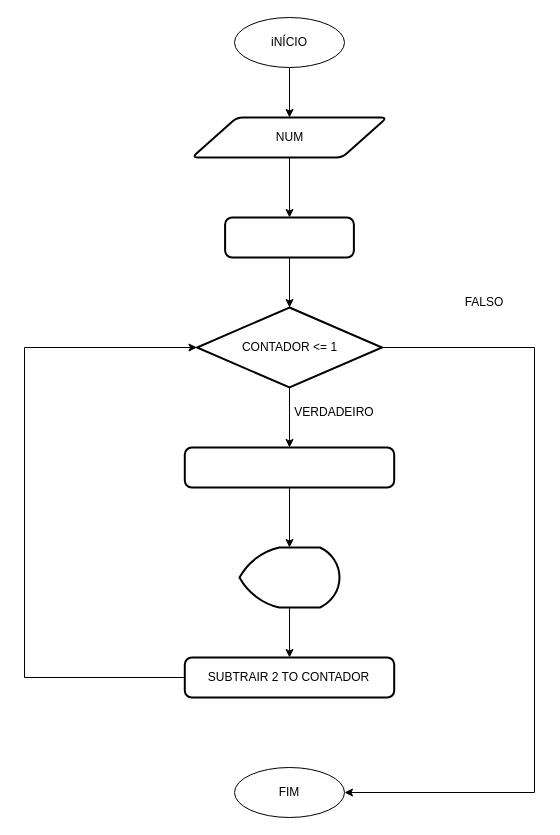
This 560x835 diagram has some shape labels left out. The centre of each missing label's shape, as x and y in pixels:
"CONTADOR = 100" goes at [289,237].
"RES" goes at [289,577].
"RES = NUM * CONTADOR" goes at [289,467].
